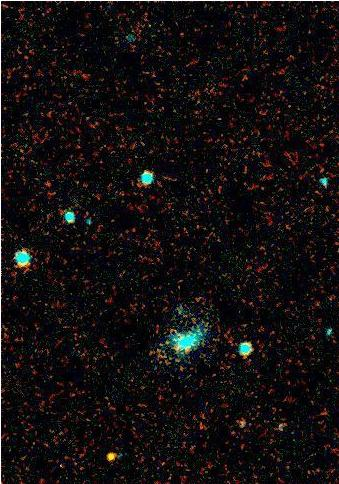star: (97, 441, 127, 471)
